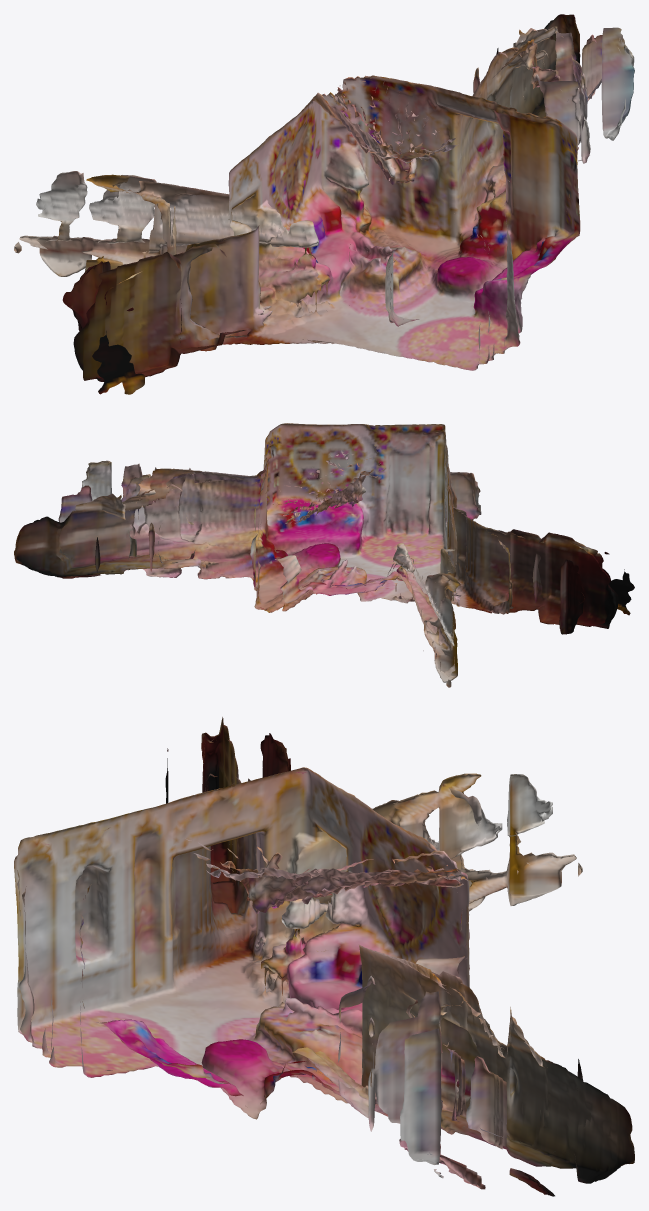
File: jewel-princess-living-1-1_collider.glb
3 renders of one model, top to bottom at view 1: azimuth 30°, elevation 25°; view 2: azimuth 150°, elevation 25°; view 3: azimuth 270°, elevation 25°, orthographic. The views are drawn at different scales.
Visible parts, largest first — view 1: world; view 2: world; view 3: world.
Part boxes in pixels (x1,y1,x2,y2): world: (14, 14, 634, 394); world: (14, 423, 634, 687); world: (14, 717, 634, 1196).
Bounding box in the file's own units: 13.76 × 3.23 × 8.86.
